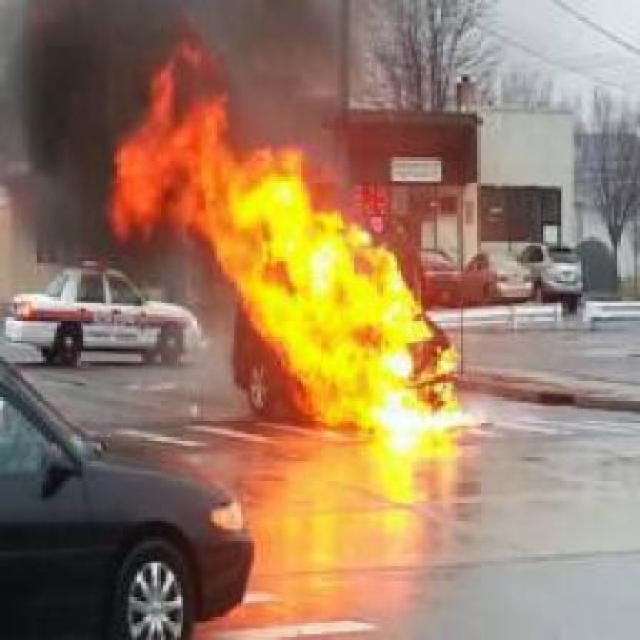fire: (106, 31, 462, 422)
